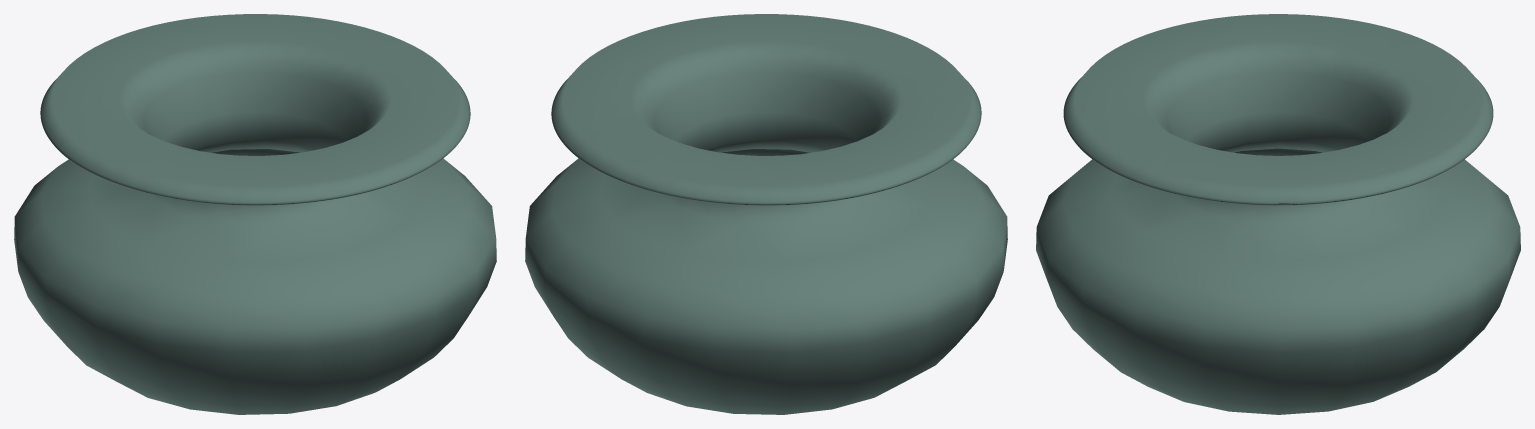
File: Pot groen small 1.fbx
3 views of the same model, side by side, from view 1: azimuth 30°, elevation 25°; view 2: azimuth 150°, elevation 25°; view 3: azimuth 270°, elevation 25° (orthographic).
Visible parts, largest first — view 1: Pot; view 2: Pot; view 3: Pot.
Part boxes in pixels (left/top/right/bottom): Pot: left=14, top=14, right=496, bottom=414; Pot: left=525, top=14, right=1007, bottom=414; Pot: left=1036, top=14, right=1520, bottom=414.
Bounding box in the file's own units: 0.2606 × 0.1579 × 0.2606.
